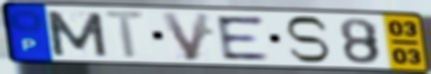8: (337, 16, 383, 65)
E: (213, 15, 273, 62)
M: (43, 9, 111, 58)
S: (282, 15, 333, 65)
T: (101, 9, 151, 61)
V: (158, 11, 213, 63)
